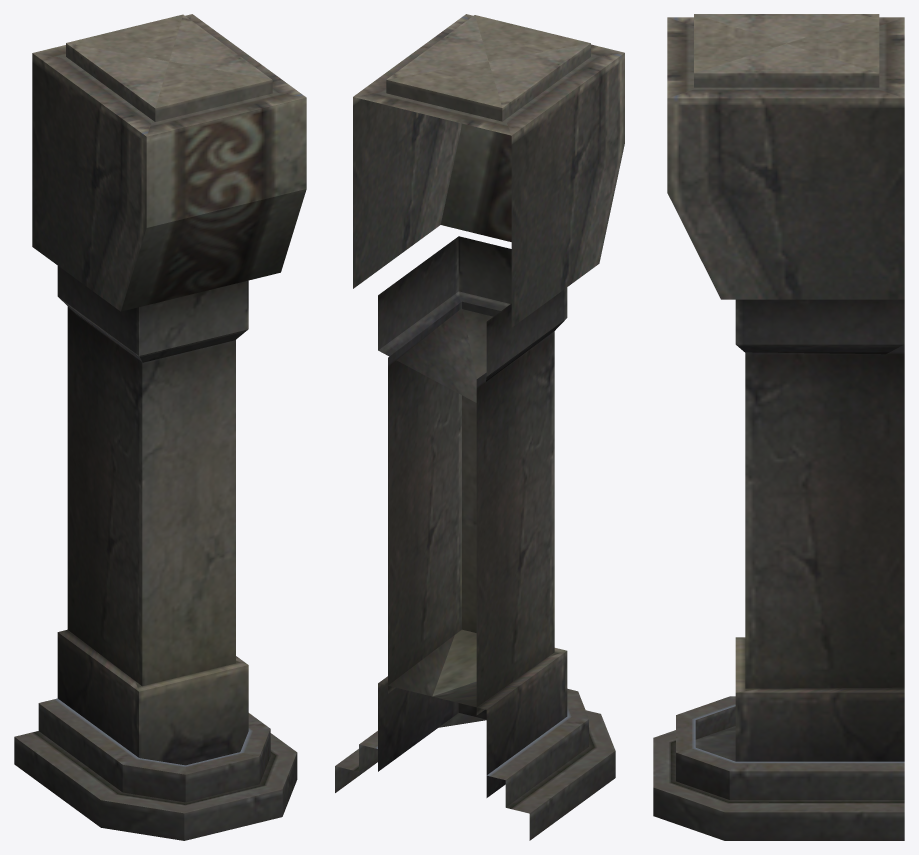
File: fb_yanwanggumu_pingjiezhuzi.FBX
3 renders of one model, left to right at view 1: azimuth 30°, elevation 25°; view 2: azimuth 150°, elevation 25°; view 3: azimuth 270°, elevation 25°, orthographic. The views are drawn at different scales.
Visible parts, largest first — view 1: fb_yanwanggumu_pingjiezhuzi; view 2: fb_yanwanggumu_pingjiezhuzi; view 3: fb_yanwanggumu_pingjiezhuzi.
Boxes of the visible parts, <box> form: fb_yanwanggumu_pingjiezhuzi: <box>14,14,306,840</box>; fb_yanwanggumu_pingjiezhuzi: <box>335,14,624,840</box>; fb_yanwanggumu_pingjiezhuzi: <box>653,14,904,840</box>.
Bounding box in the file's own units: 193 × 678 × 206.
1 material, 1 textured.
